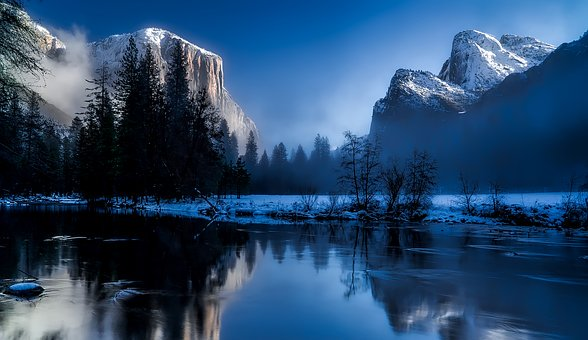lake: (11, 214, 588, 335)
mountain: (5, 25, 268, 192), (378, 24, 588, 194)
tree: (75, 52, 244, 197)
